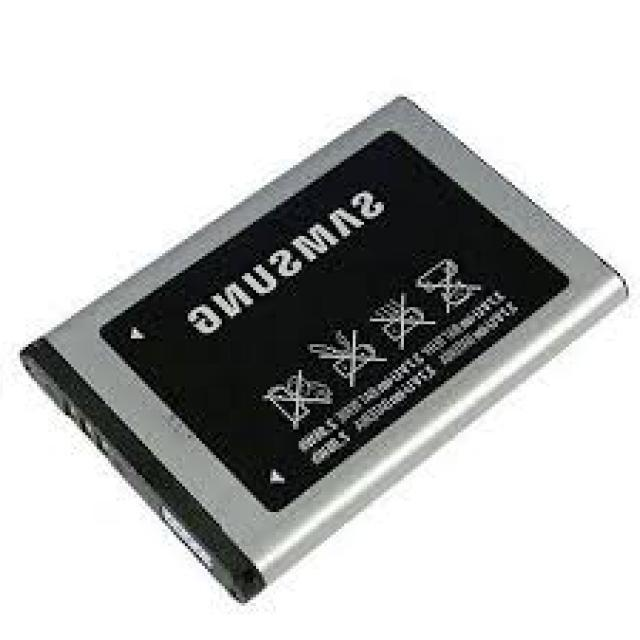battery: (18, 90, 628, 604)
